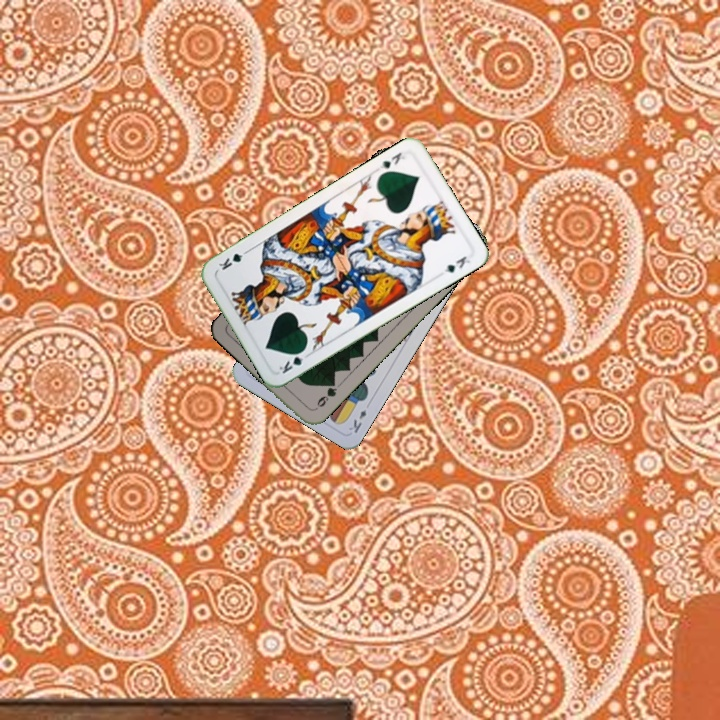EK: (345, 405, 369, 436)
G9: (310, 377, 340, 413)
GK: (275, 345, 312, 376), (376, 148, 408, 171)
